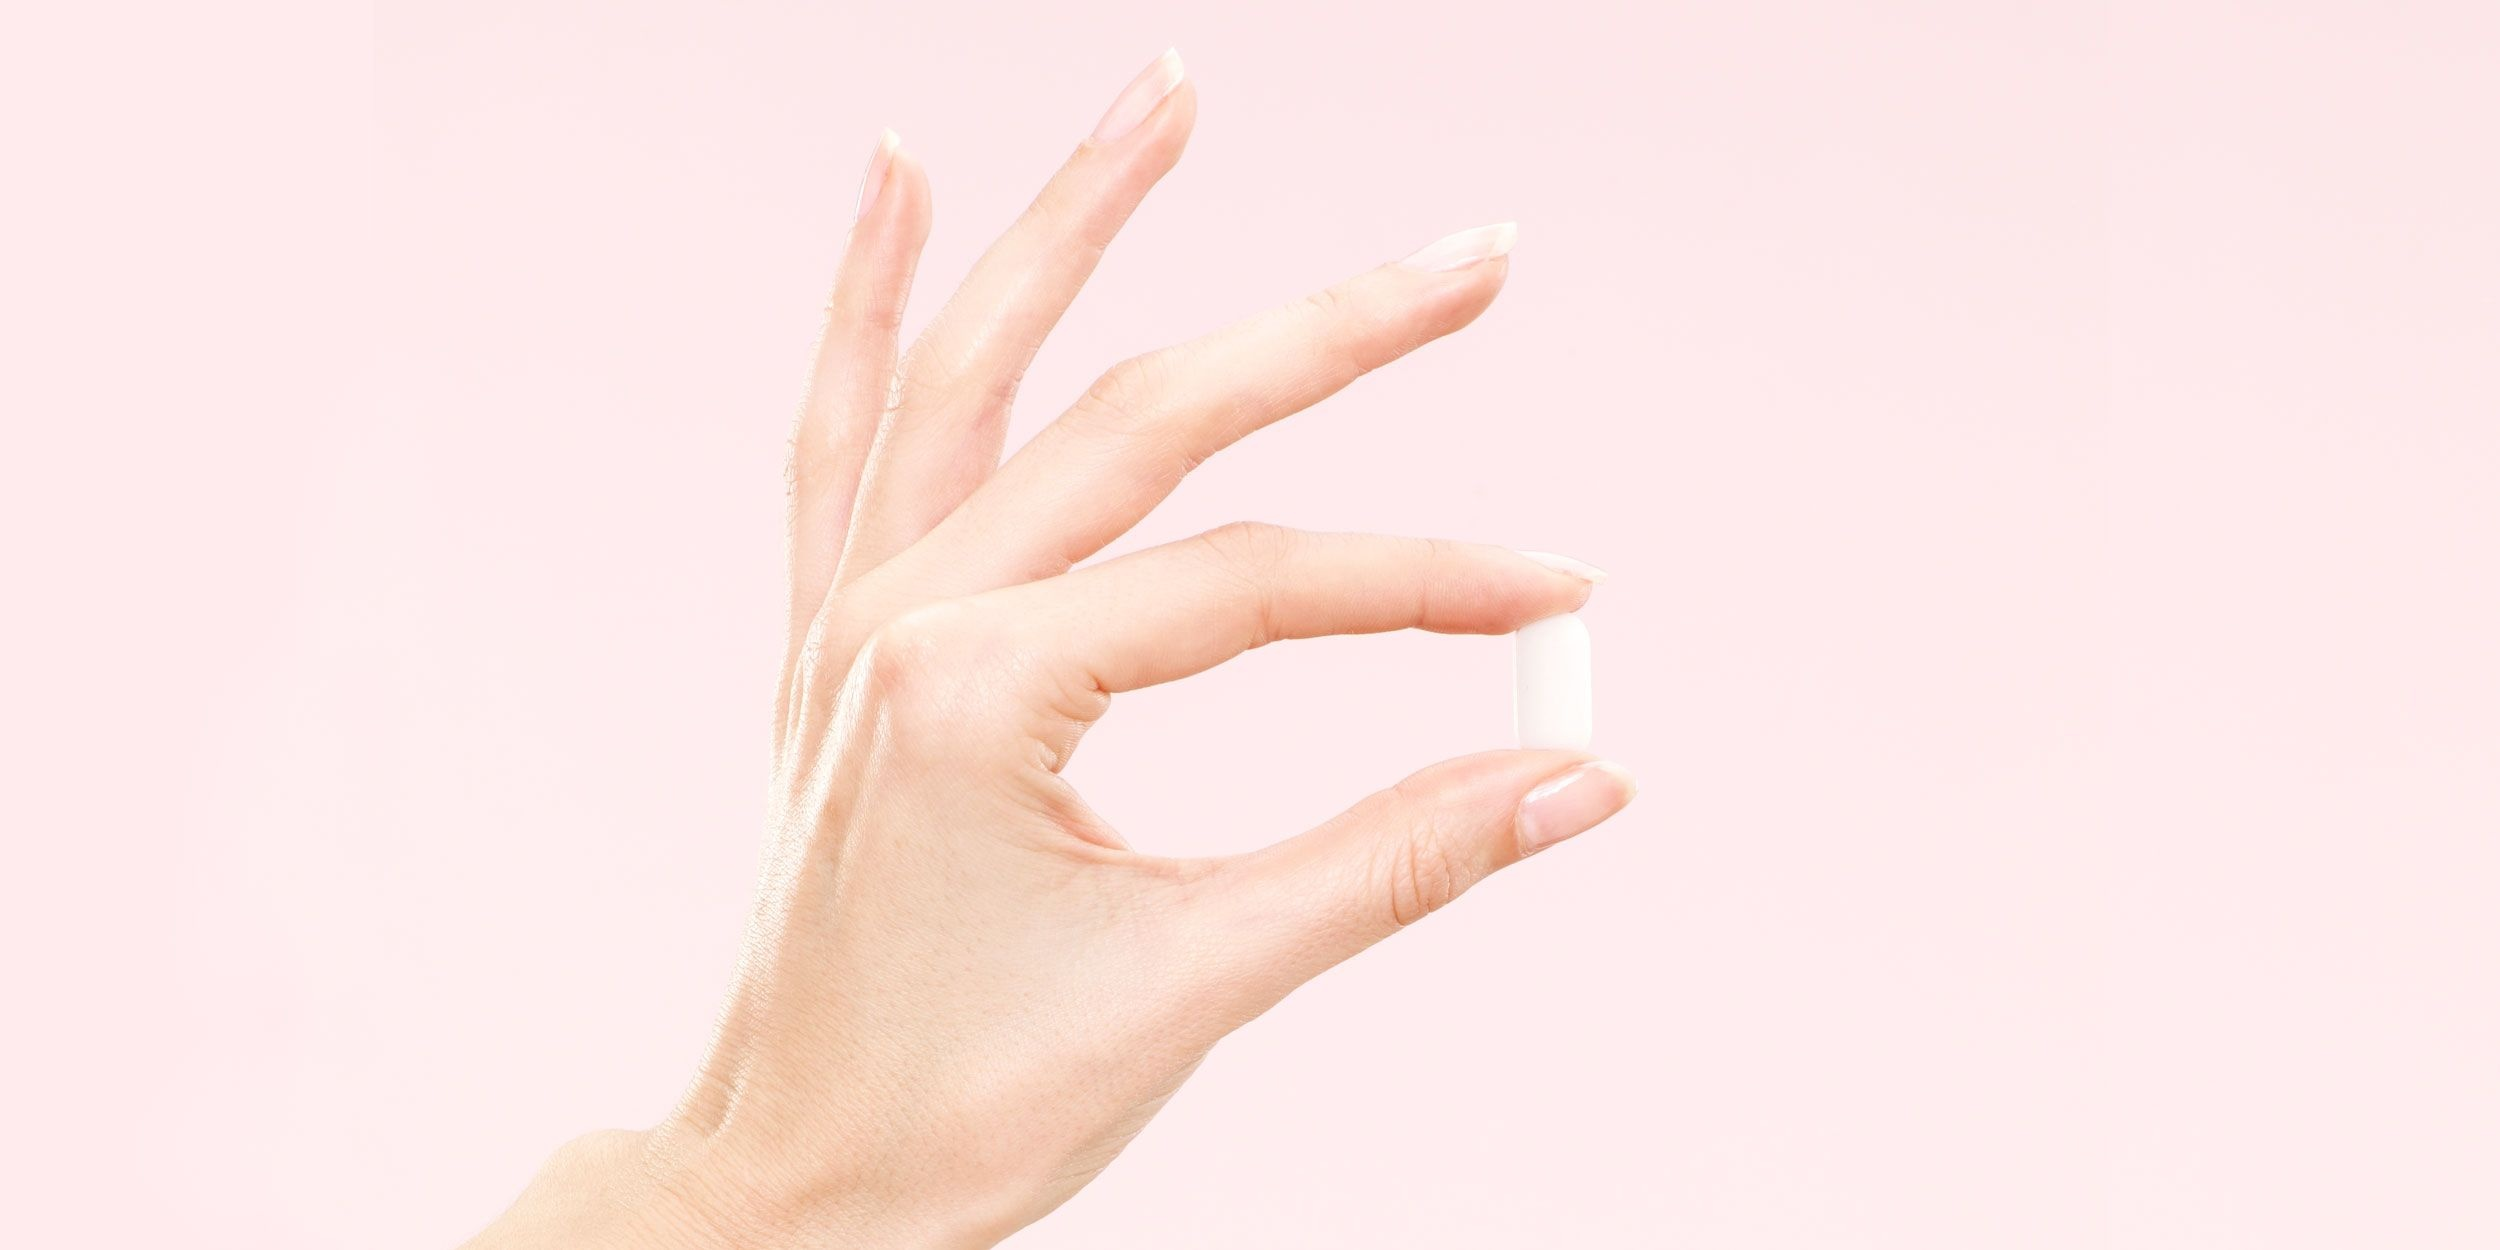pills: (1488, 584, 1626, 784)
